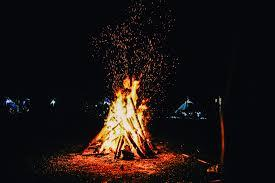fire: (103, 74, 149, 151)
